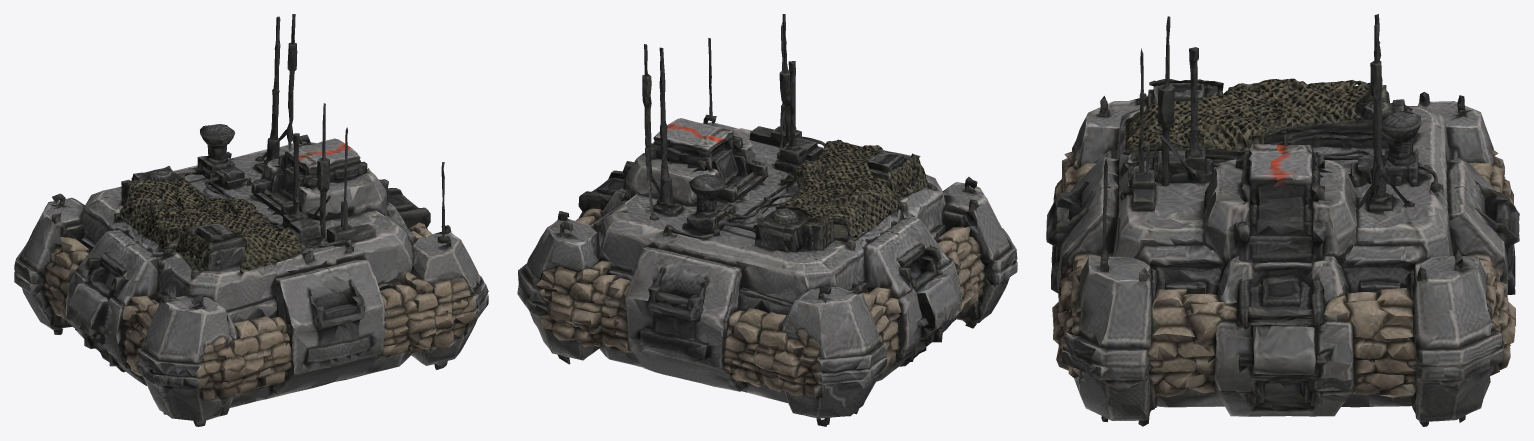
File: fh_ground_bunker_meshy.glb
3 views of the same model, side by side, from view 1: azimuth 30°, elevation 25°; view 2: azimuth 150°, elevation 25°; view 3: azimuth 270°, elevation 25° (orthographic). The views are drawn at different scales.
Visible parts, largest first — view 1: GLTF; view 2: GLTF; view 3: GLTF.
Part boxes in pixels (x1=…): GLTF: x1=14, y1=14, x2=488, y2=426; GLTF: x1=517, y1=14, x2=1017, y2=426; GLTF: x1=1046, y1=14, x2=1519, y2=426.
Bounding box in the file's own units: 1 × 0.7958 × 0.9188.
1 material, 1 textured.
